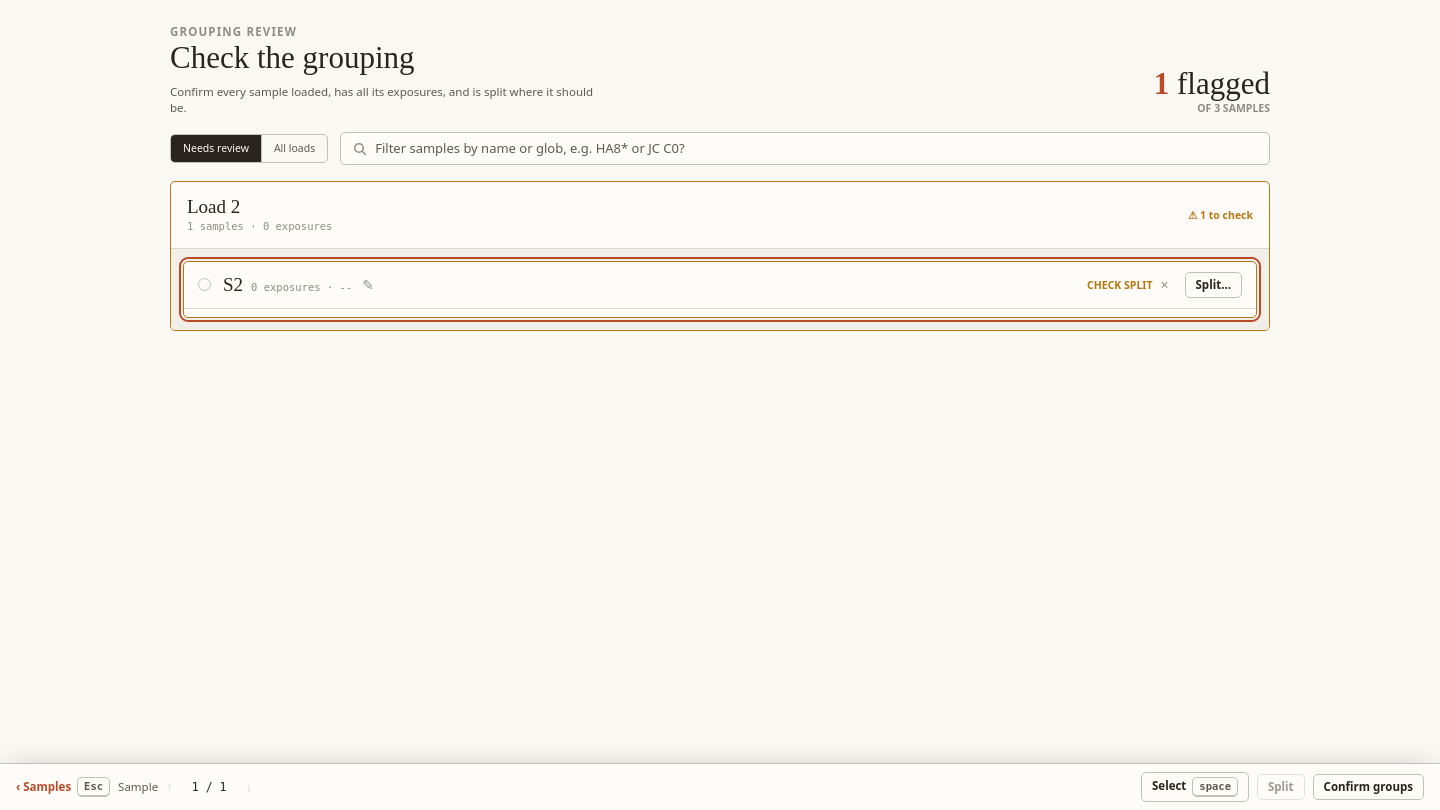
Scenario: GroupingReviewPage interaction › select dock button toggles selection via click
Click the button with test id "dock-action-select" at coordinates (1195, 787), box [1141,772,1249,802]
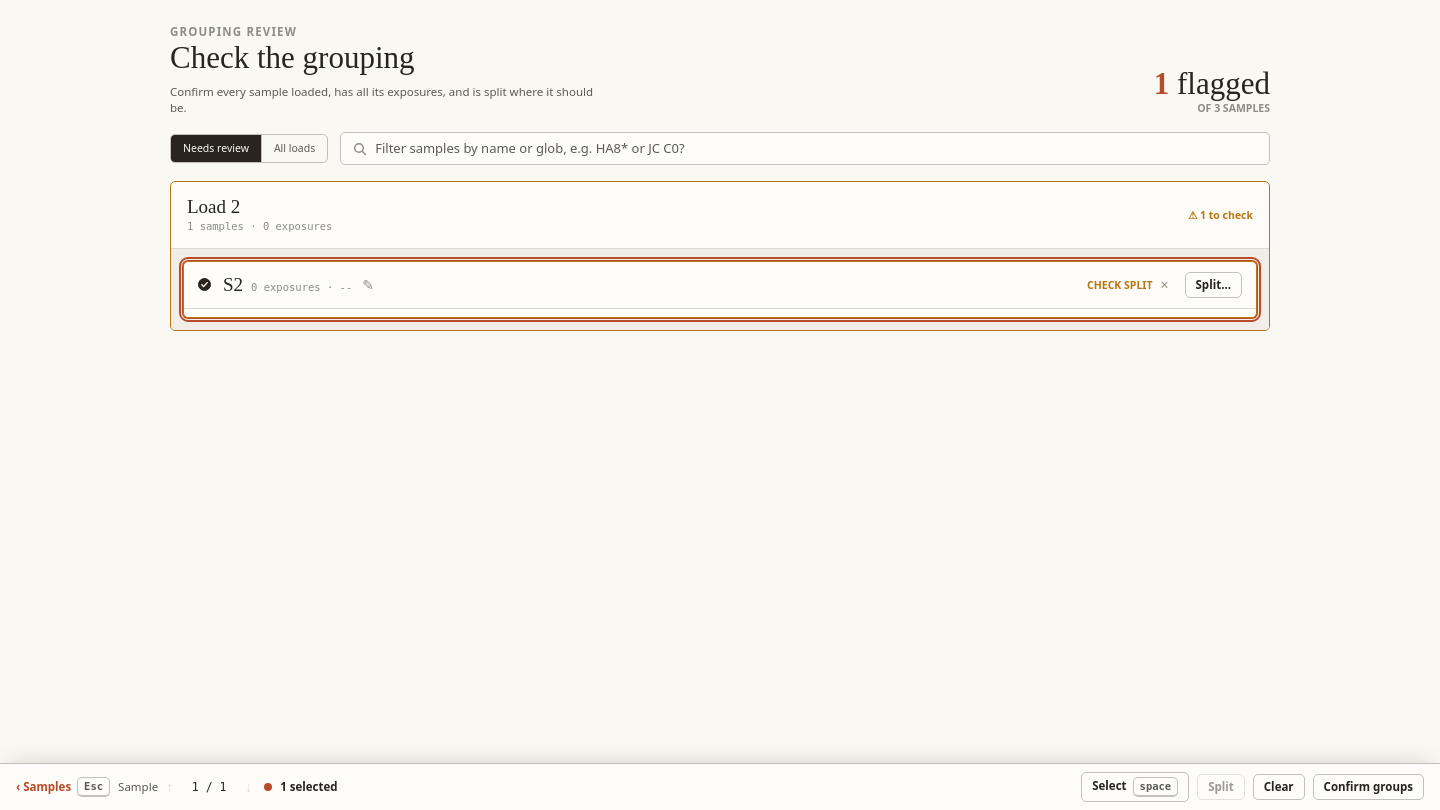
Result: the checkbox is checked at [198,278,211,292]
